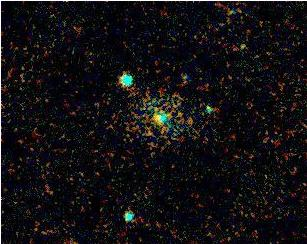star: (227, 33, 257, 63)
